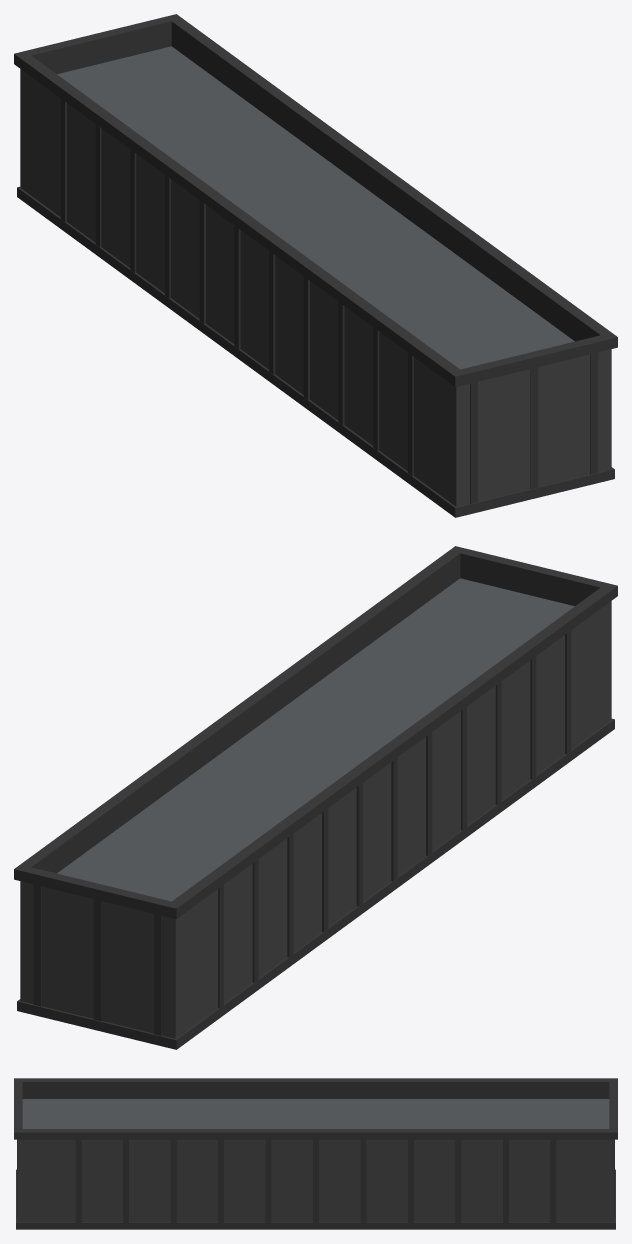
The model's file is SM_Vehicles_TrainPart_03.fbx.
3 views of the same model, one above another, from view 1: azimuth 30°, elevation 25°; view 2: azimuth 150°, elevation 25°; view 3: azimuth 270°, elevation 25° (orthographic). The views are drawn at different scales.
Visible parts, largest first — view 1: SM_Vehicles_TrainPart_03; view 2: SM_Vehicles_TrainPart_03; view 3: SM_Vehicles_TrainPart_03.
Boxes of the visible parts, x1,y1,x2,y2 form: SM_Vehicles_TrainPart_03: (14,14,617,517); SM_Vehicles_TrainPart_03: (14,546,617,1049); SM_Vehicles_TrainPart_03: (14,1078,617,1229).
Size of the model in its own units: 3.62 by 3.04 by 17.05.
